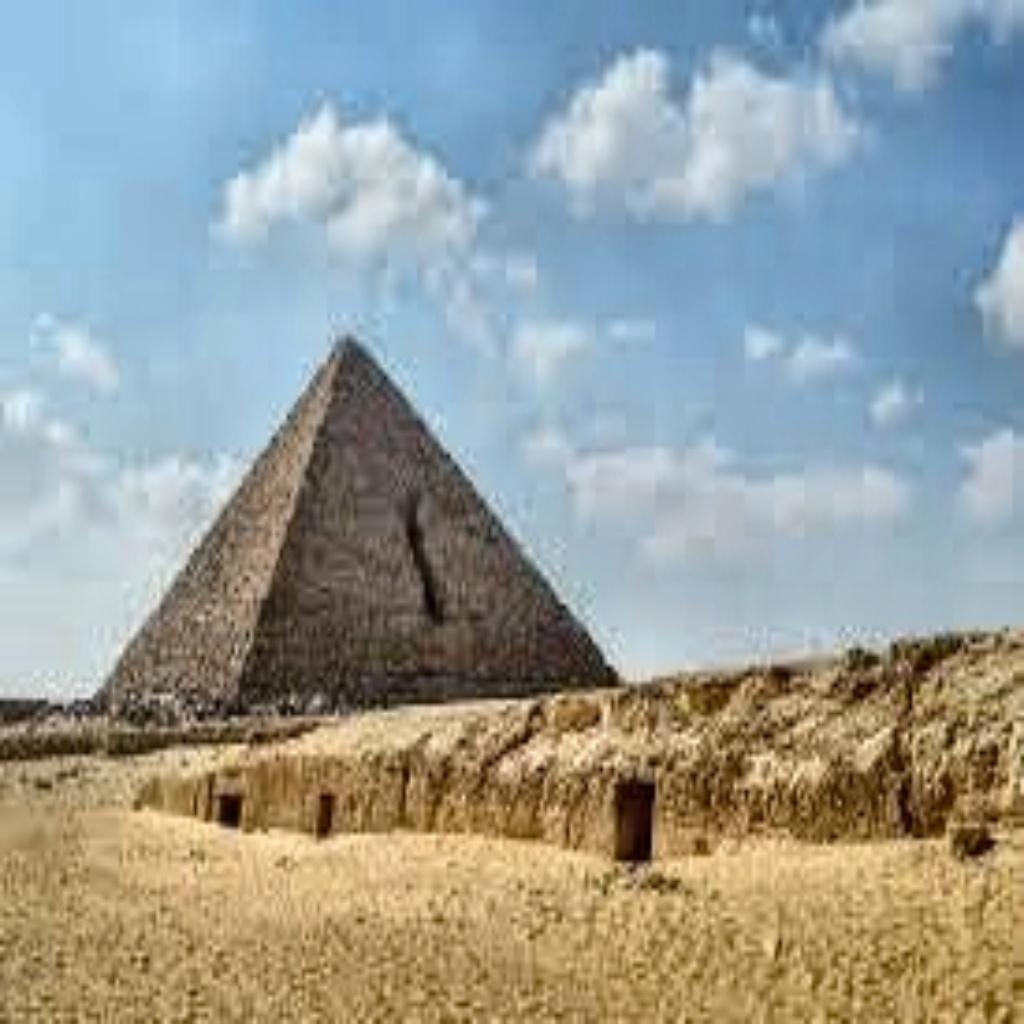Great Pyramids of Giza: (86, 324, 622, 728)
